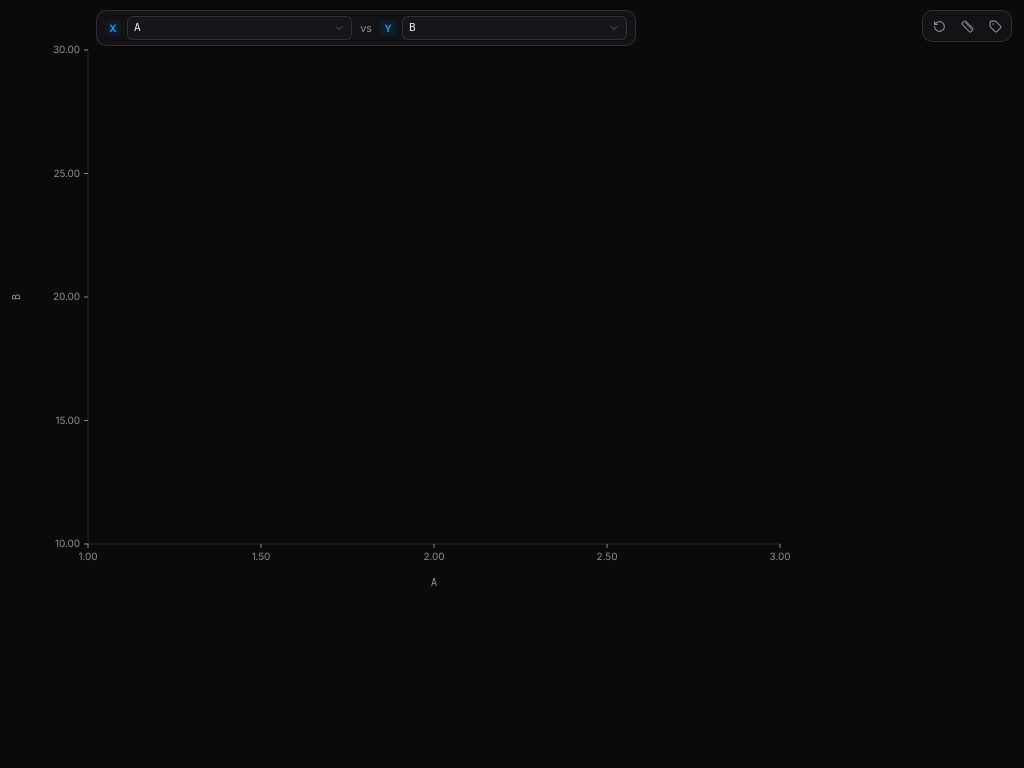
it: ScatterChart › axis-scale editor › opens via the Ruler button and shows an error when min >= max
Click the button titled "Pin the X/Y axis" at (967, 26), box x1=954 y1=14 x2=980 y2=38
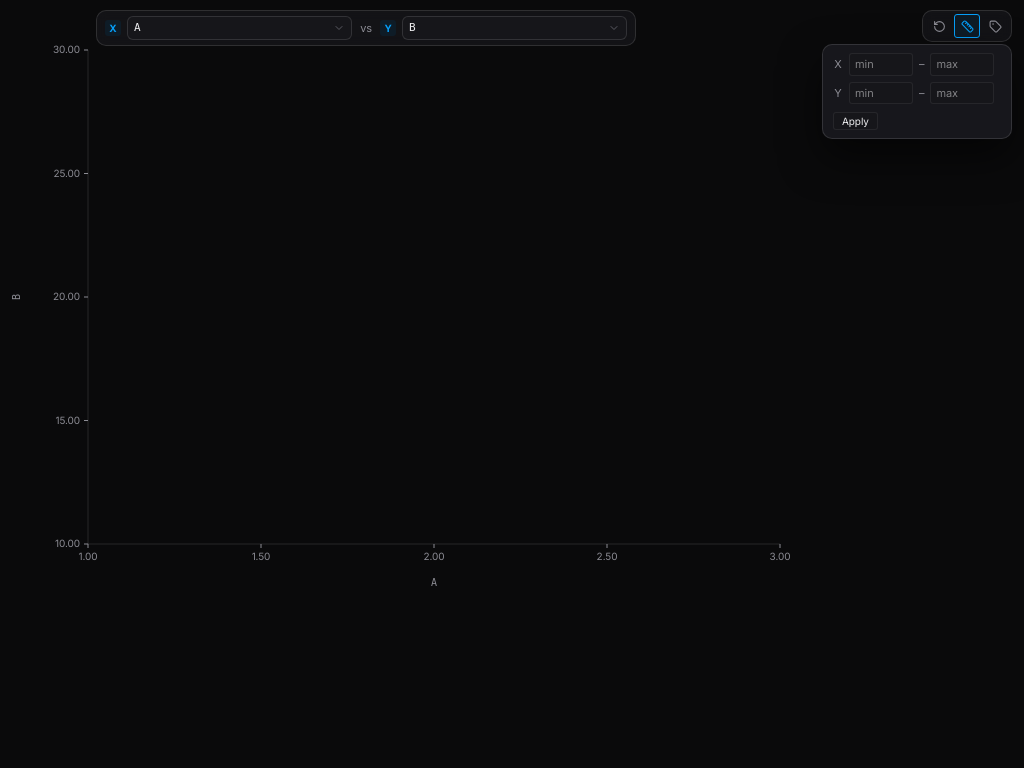
Type "10" into the 1st number field with placeholder "min" at (881, 64), box x1=849 y1=53 x2=913 y2=76
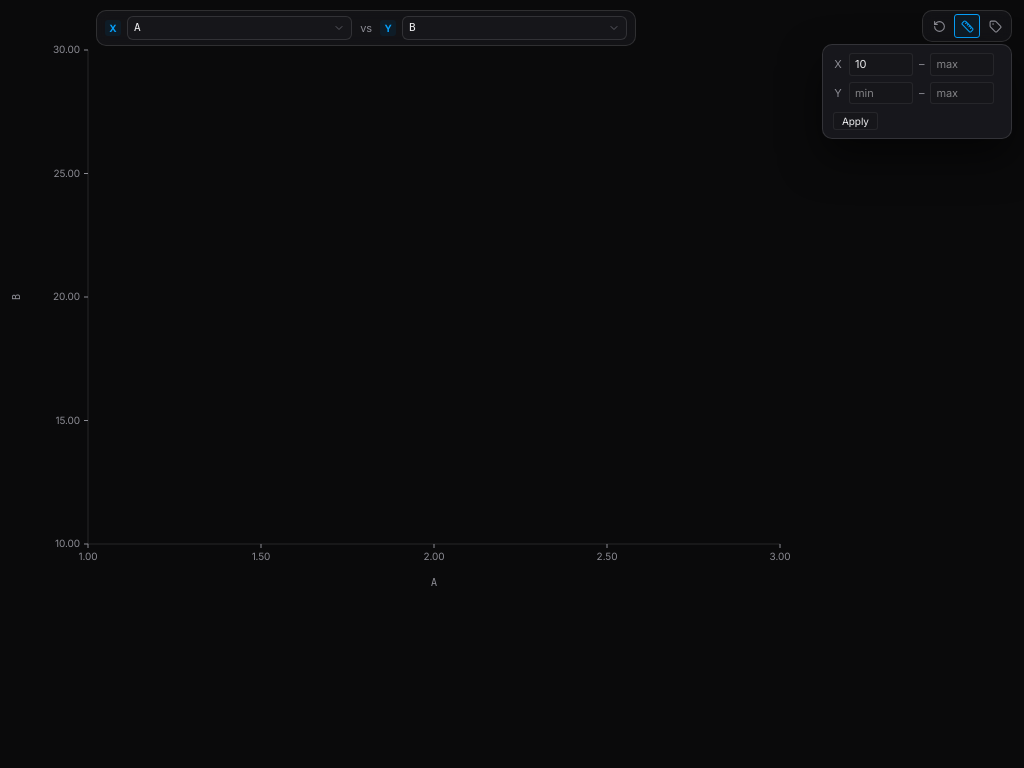
Type "5" into the 1st number field with placeholder "max" at (962, 64), box x1=930 y1=53 x2=994 y2=76
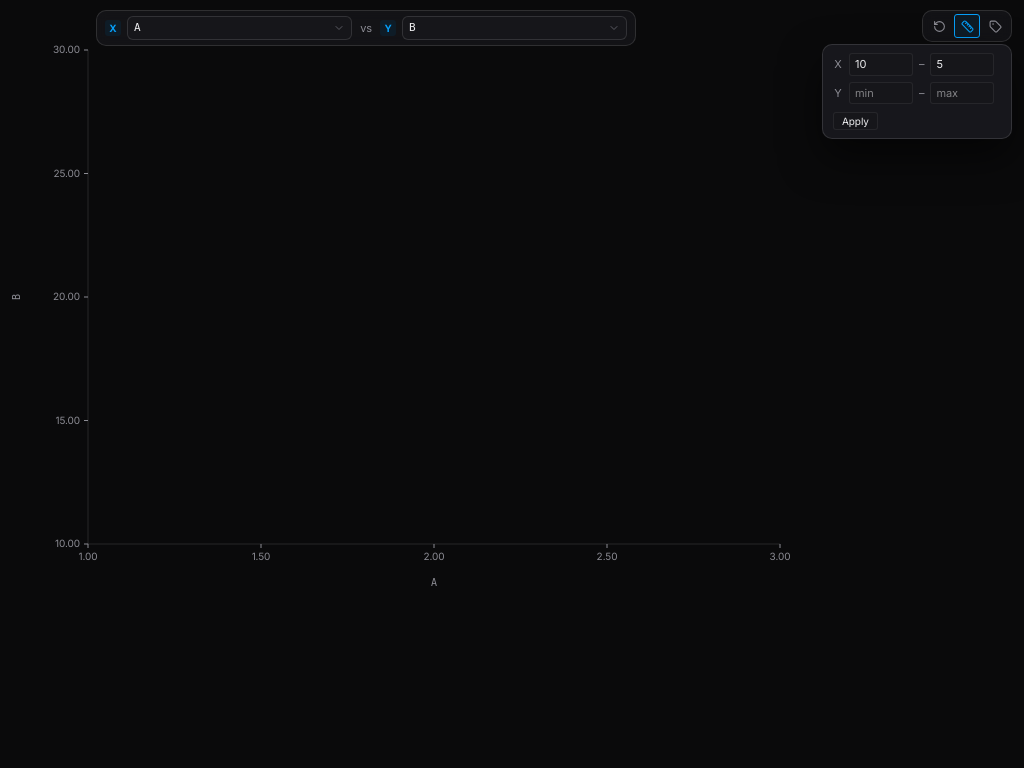
Click the button "Apply" at (855, 121), box x1=833 y1=112 x2=878 y2=130
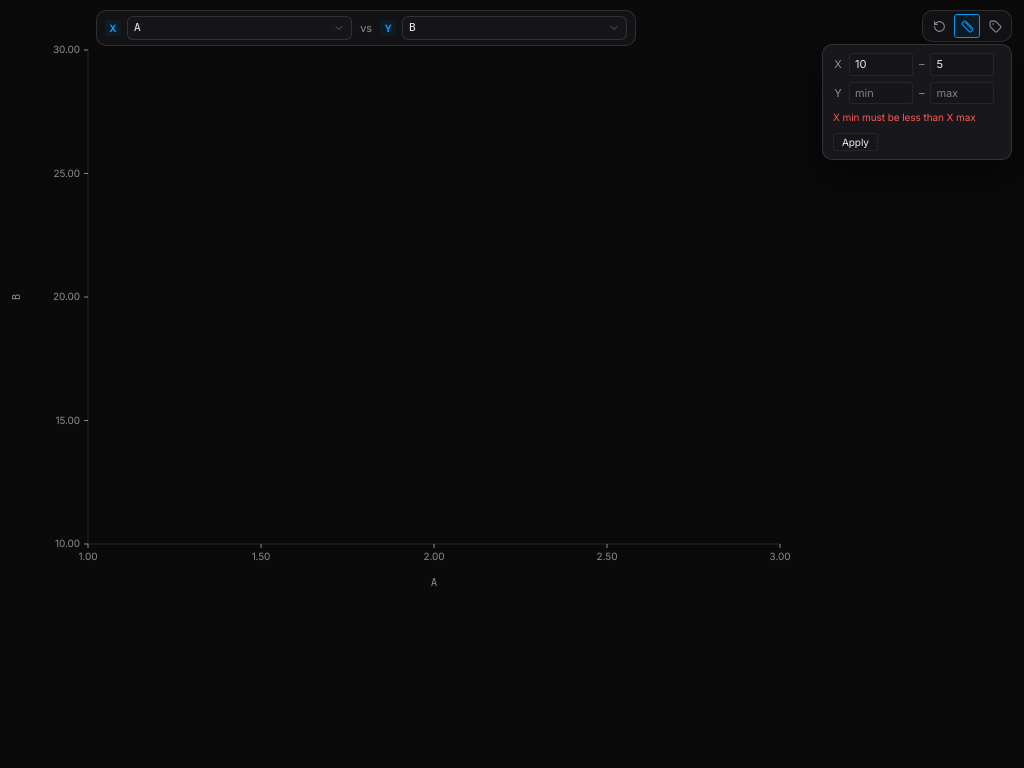
Now the text "X min must be less than X max" is shown, box x1=833 y1=111 x2=976 y2=123
